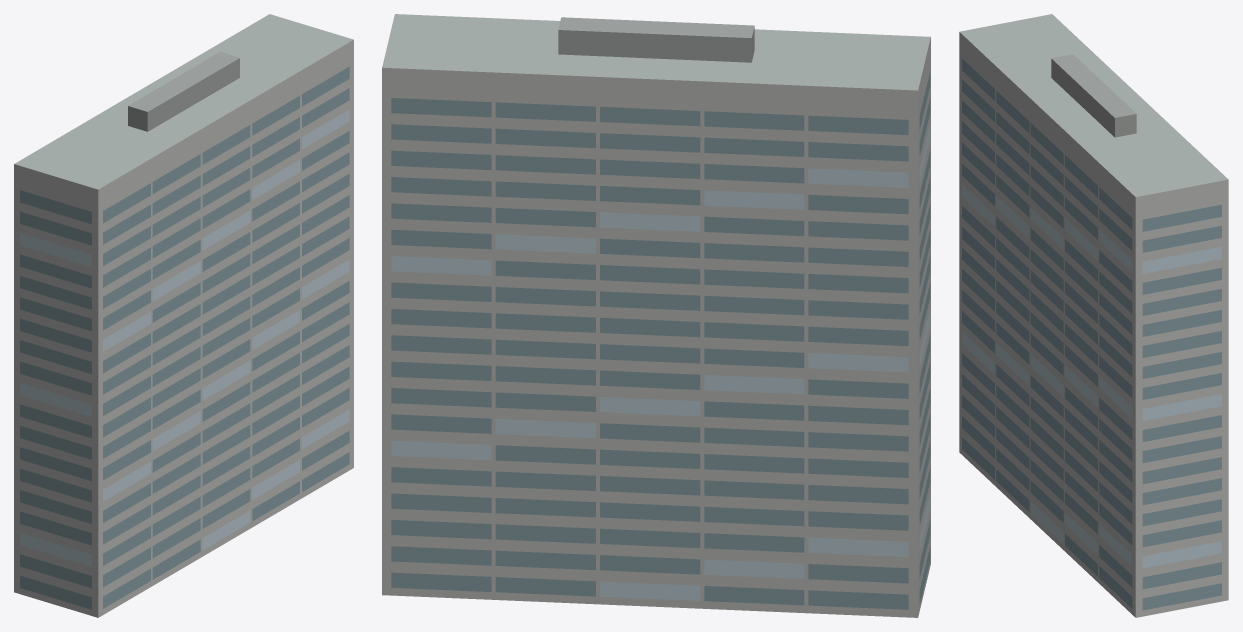
The model's file is fallback-dogok-rexls-204.glb.
3 renders of one model, left to right at view 1: azimuth 30°, elevation 25°; view 2: azimuth 150°, elevation 25°; view 3: azimuth 270°, elevation 25°, orthographic. The views are drawn at different scales.
Visible parts, largest first — view 1: fallback-dogok-rexls-204; view 2: fallback-dogok-rexls-204; view 3: fallback-dogok-rexls-204.
Boxes of the visible parts, x1,y1,x2,y2 form: fallback-dogok-rexls-204: (14, 14, 353, 617); fallback-dogok-rexls-204: (382, 14, 930, 617); fallback-dogok-rexls-204: (959, 14, 1228, 617).
Bounding box in the file's own units: 48.21 × 54 × 29.95.
